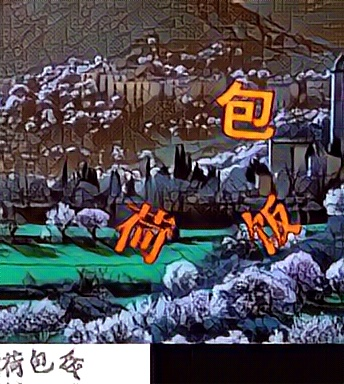B0FC: (211, 78, 277, 142)
B7B9: (237, 194, 303, 258)
BAC9: (111, 199, 177, 263)
